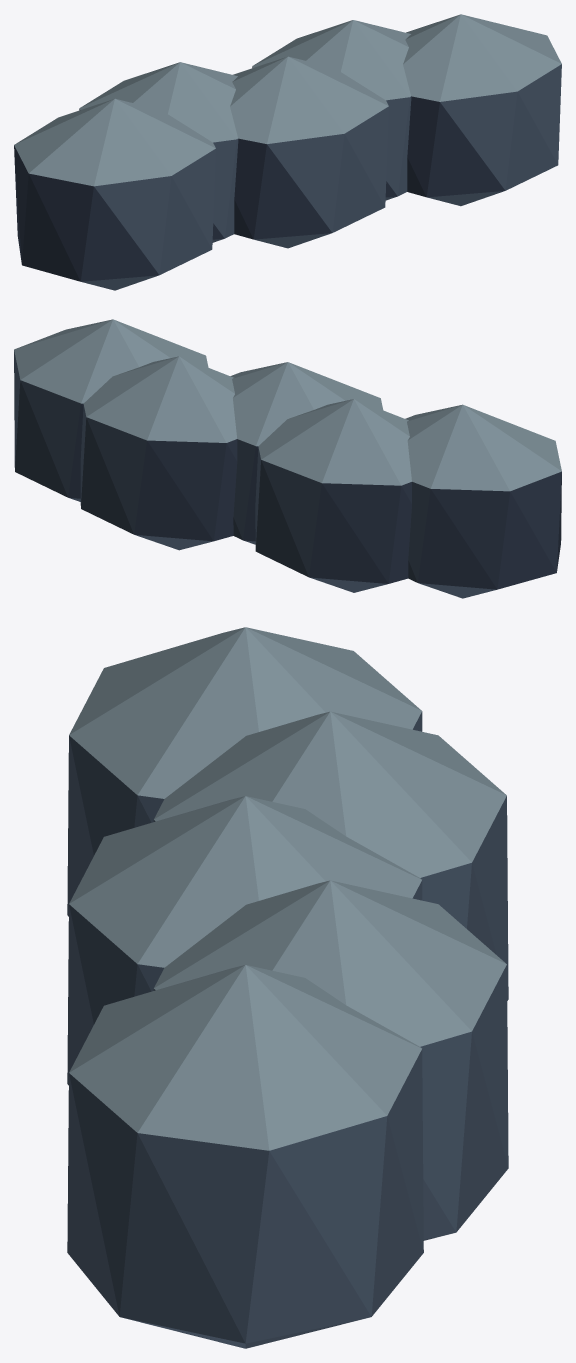
File: TW_VEG_BUSH_LONG_B_LOD0.glb
3 renders of one model, top to bottom at view 1: azimuth 30°, elevation 25°; view 2: azimuth 150°, elevation 25°; view 3: azimuth 270°, elevation 25°, orthographic. The views are drawn at different scales.
Visible parts, largest first — view 1: TW_VEG_BUSH_LONG_B_LOD0; view 2: TW_VEG_BUSH_LONG_B_LOD0; view 3: TW_VEG_BUSH_LONG_B_LOD0.
Boxes of the visible parts, x1,y1,x2,y2 form: TW_VEG_BUSH_LONG_B_LOD0: (14, 14, 561, 290); TW_VEG_BUSH_LONG_B_LOD0: (14, 319, 561, 598); TW_VEG_BUSH_LONG_B_LOD0: (67, 627, 508, 1348).
Size of the model in its own units: 2.03 by 0.7 by 0.7289.
Materials: 1 (1 with a texture image).
